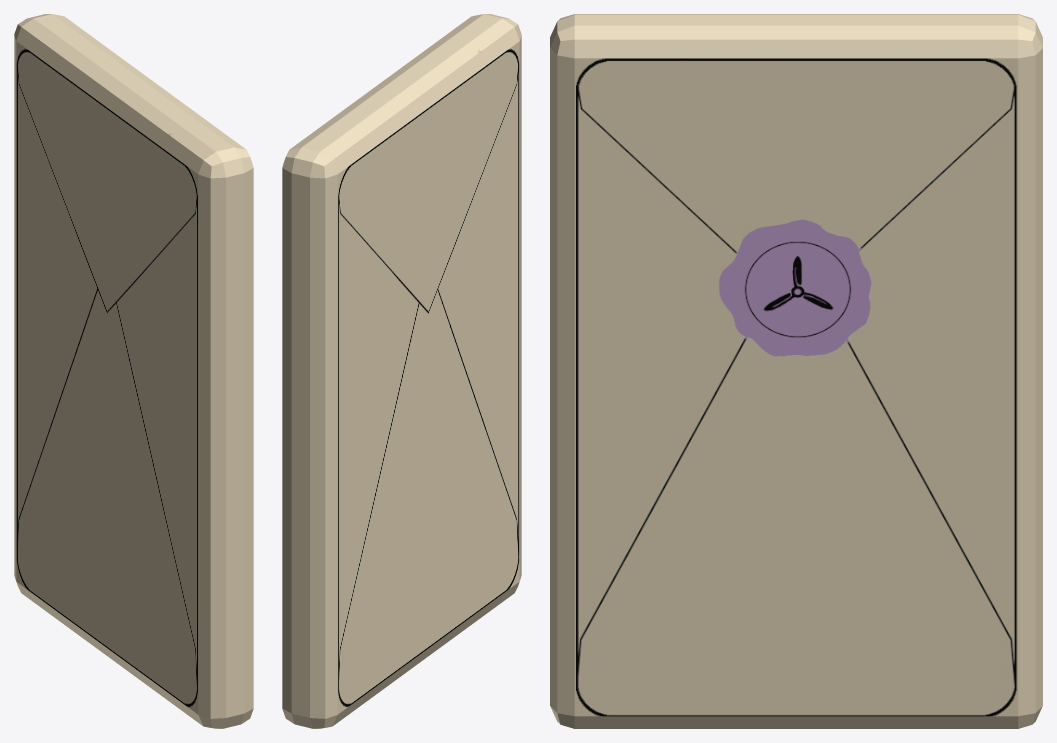
Rendered from Sobre carta dash.fbx.
3 views of the same model, side by side, from view 1: azimuth 30°, elevation 25°; view 2: azimuth 150°, elevation 25°; view 3: azimuth 270°, elevation 25° (orthographic). The views are drawn at different scales.
Visible parts, largest first — view 1: Cube; view 2: Cube; view 3: Cube.
Boxes of the visible parts, box(x1,y1,x2,y2) form: Cube: box(14, 14, 253, 728); Cube: box(282, 14, 521, 728); Cube: box(550, 14, 1042, 728).
Size of the model in its own units: 30.44 by 315 by 200.
